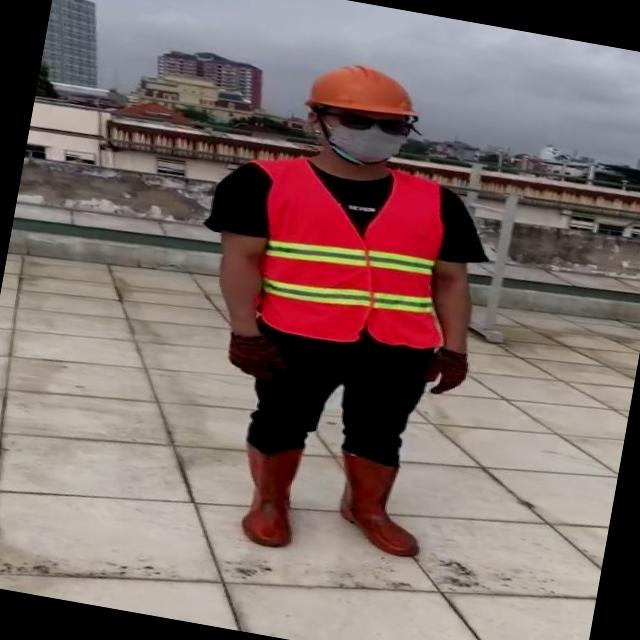boots: (326, 446, 436, 559), (225, 437, 312, 550)
helmet: (298, 50, 432, 126)
vest: (242, 152, 459, 358)
